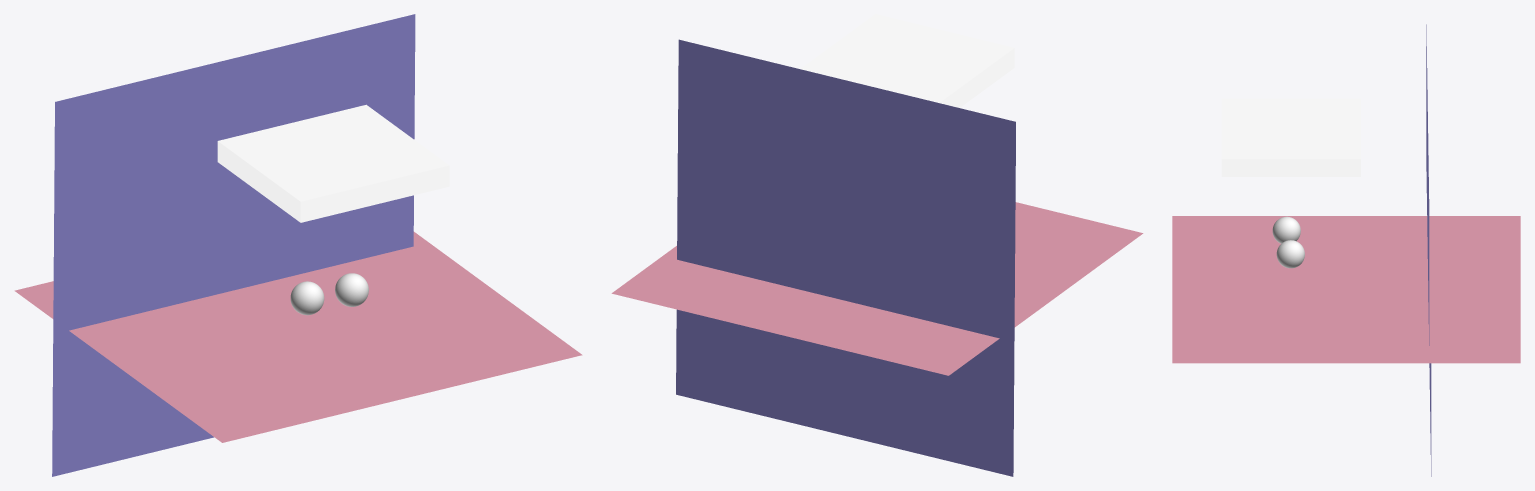
Rendered from pathtracer_test_reflective_refractive.glb.
3 views of the same model, side by side, from view 1: azimuth 30°, elevation 25°; view 2: azimuth 150°, elevation 25°; view 3: azimuth 270°, elevation 25° (orthographic). The views are drawn at different scales.
Parts seen in each view (by area): view 1: Plane.002, Plane.001, Cube.002, Icosphere, Icosphere.001; view 2: Plane.002, Plane.001, Cube.002; view 3: Plane.001, Cube.002, Plane.002, Icosphere.001, Icosphere.
Part boxes in pixels (x1=…): Plane.002: x1=52, y1=14, x2=415, y2=476; Plane.001: x1=14, y1=231, x2=582, y2=442; Cube.002: x1=217, y1=104, x2=449, y2=222; Icosphere: x1=290, y1=281, x2=324, y2=315; Icosphere.001: x1=335, y1=273, x2=368, y2=306; Plane.002: x1=676, y1=39, x2=1015, y2=476; Plane.001: x1=611, y1=202, x2=1143, y2=375; Cube.002: x1=800, y1=14, x2=1014, y2=107; Plane.001: x1=1172, y1=216, x2=1520, y2=363; Cube.002: x1=1221, y1=98, x2=1360, y2=176; Plane.002: x1=1426, y1=24, x2=1431, y2=476; Icosphere.001: x1=1276, y1=240, x2=1304, y2=268; Icosphere: x1=1272, y1=216, x2=1300, y2=243.
Size of the model in its own units: 25.67 by 24.6 by 24.61.
